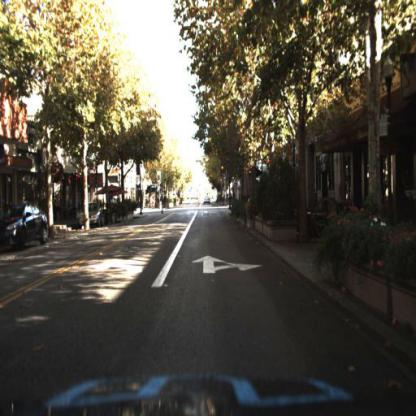car: (1, 203, 51, 250), (77, 200, 107, 230), (81, 202, 104, 227)
pedestrian: (160, 191, 168, 215)
trafficLight-Red: (219, 160, 227, 185)
